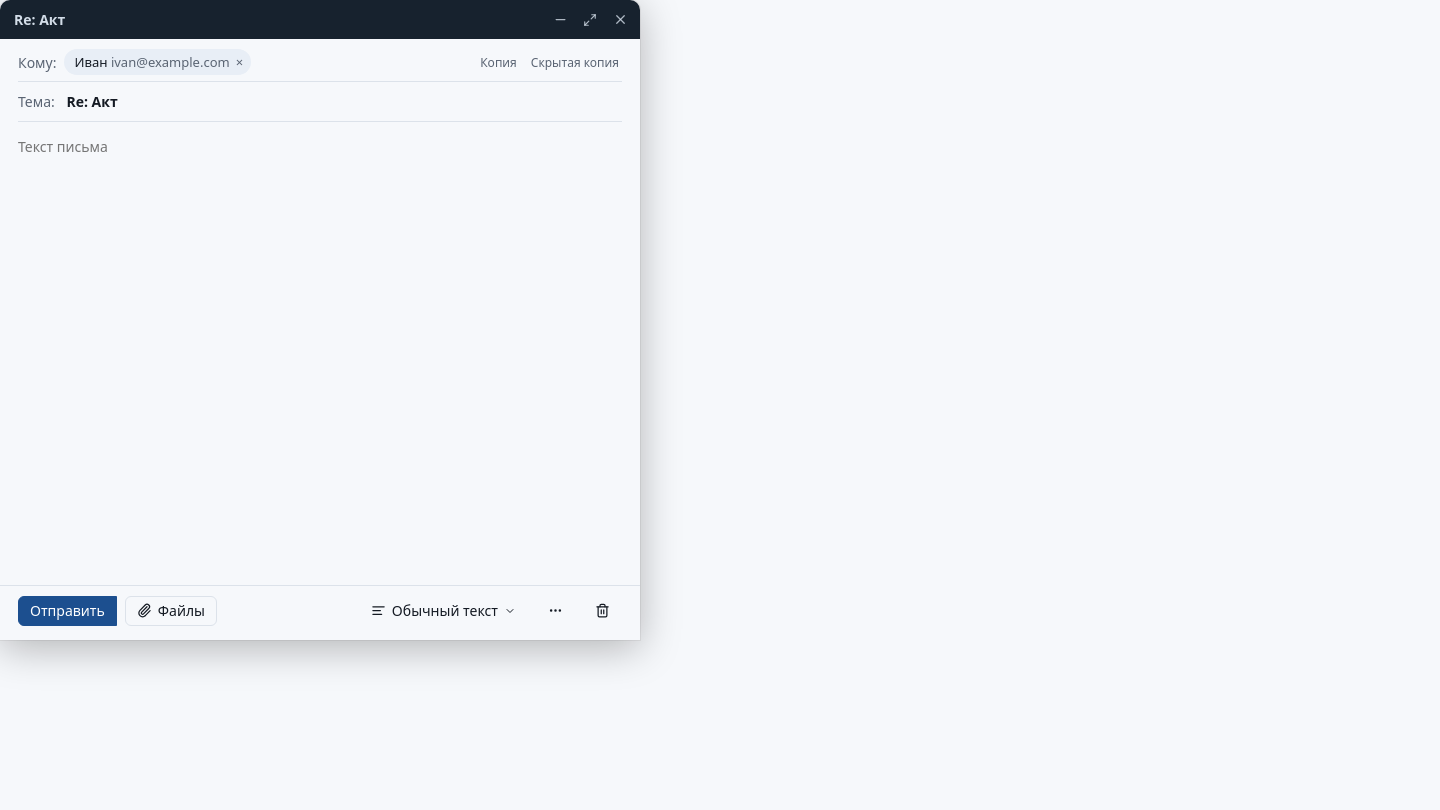
Scenario: the fields of the letter › opens Cc and Bcc by the words and by the keys, and the caret goes into the new field
The image size is (1440, 810).
Click the button with class "lnk" showing "Копия" at (498, 62), box [477,54,520,70]
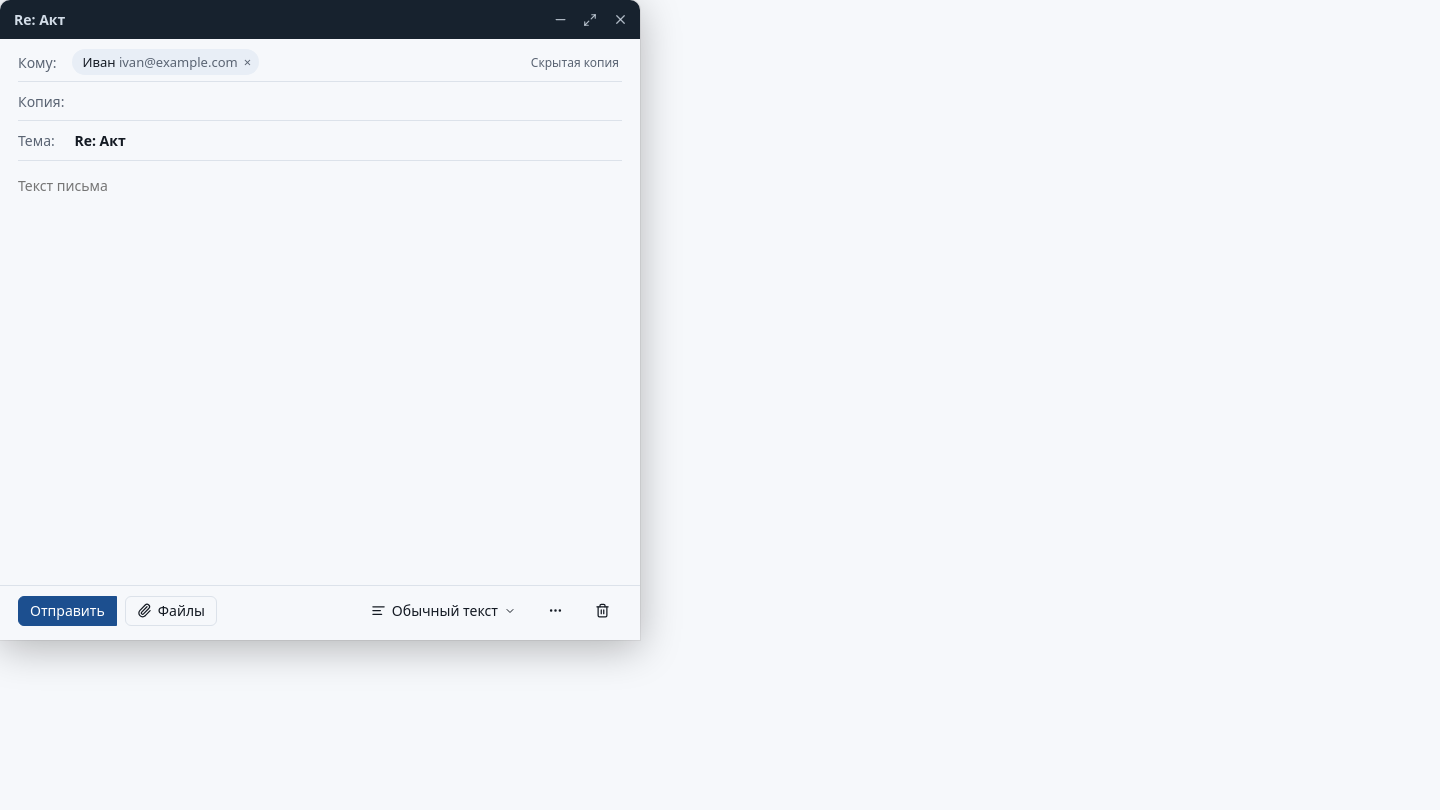
Result: the text "Копия:" is shown at [18,86,64,111]
Press b in the dialog with class "compose", box [0,0,640,640]
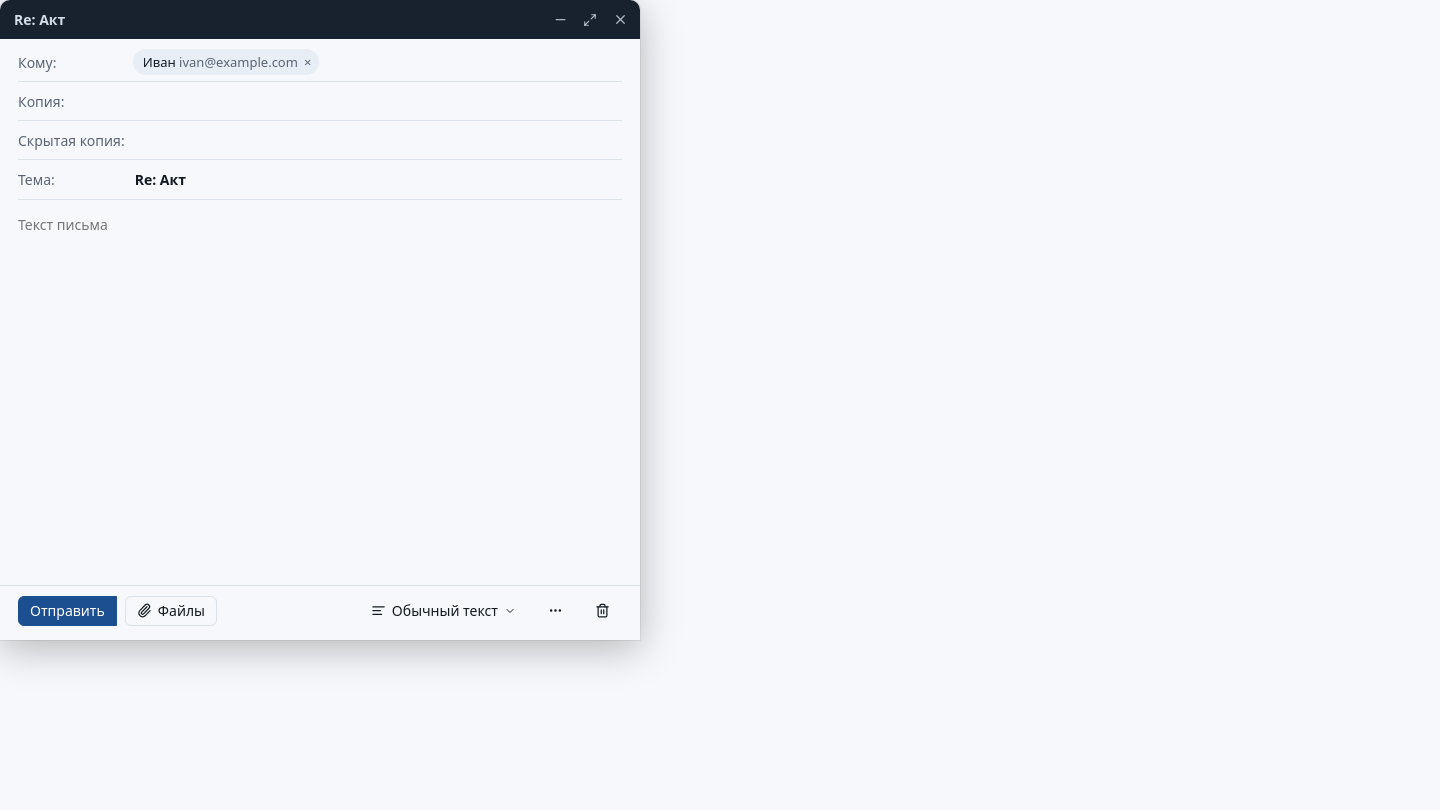
Result: the text "Скрытая копия:" is shown at [18,125,125,150]
